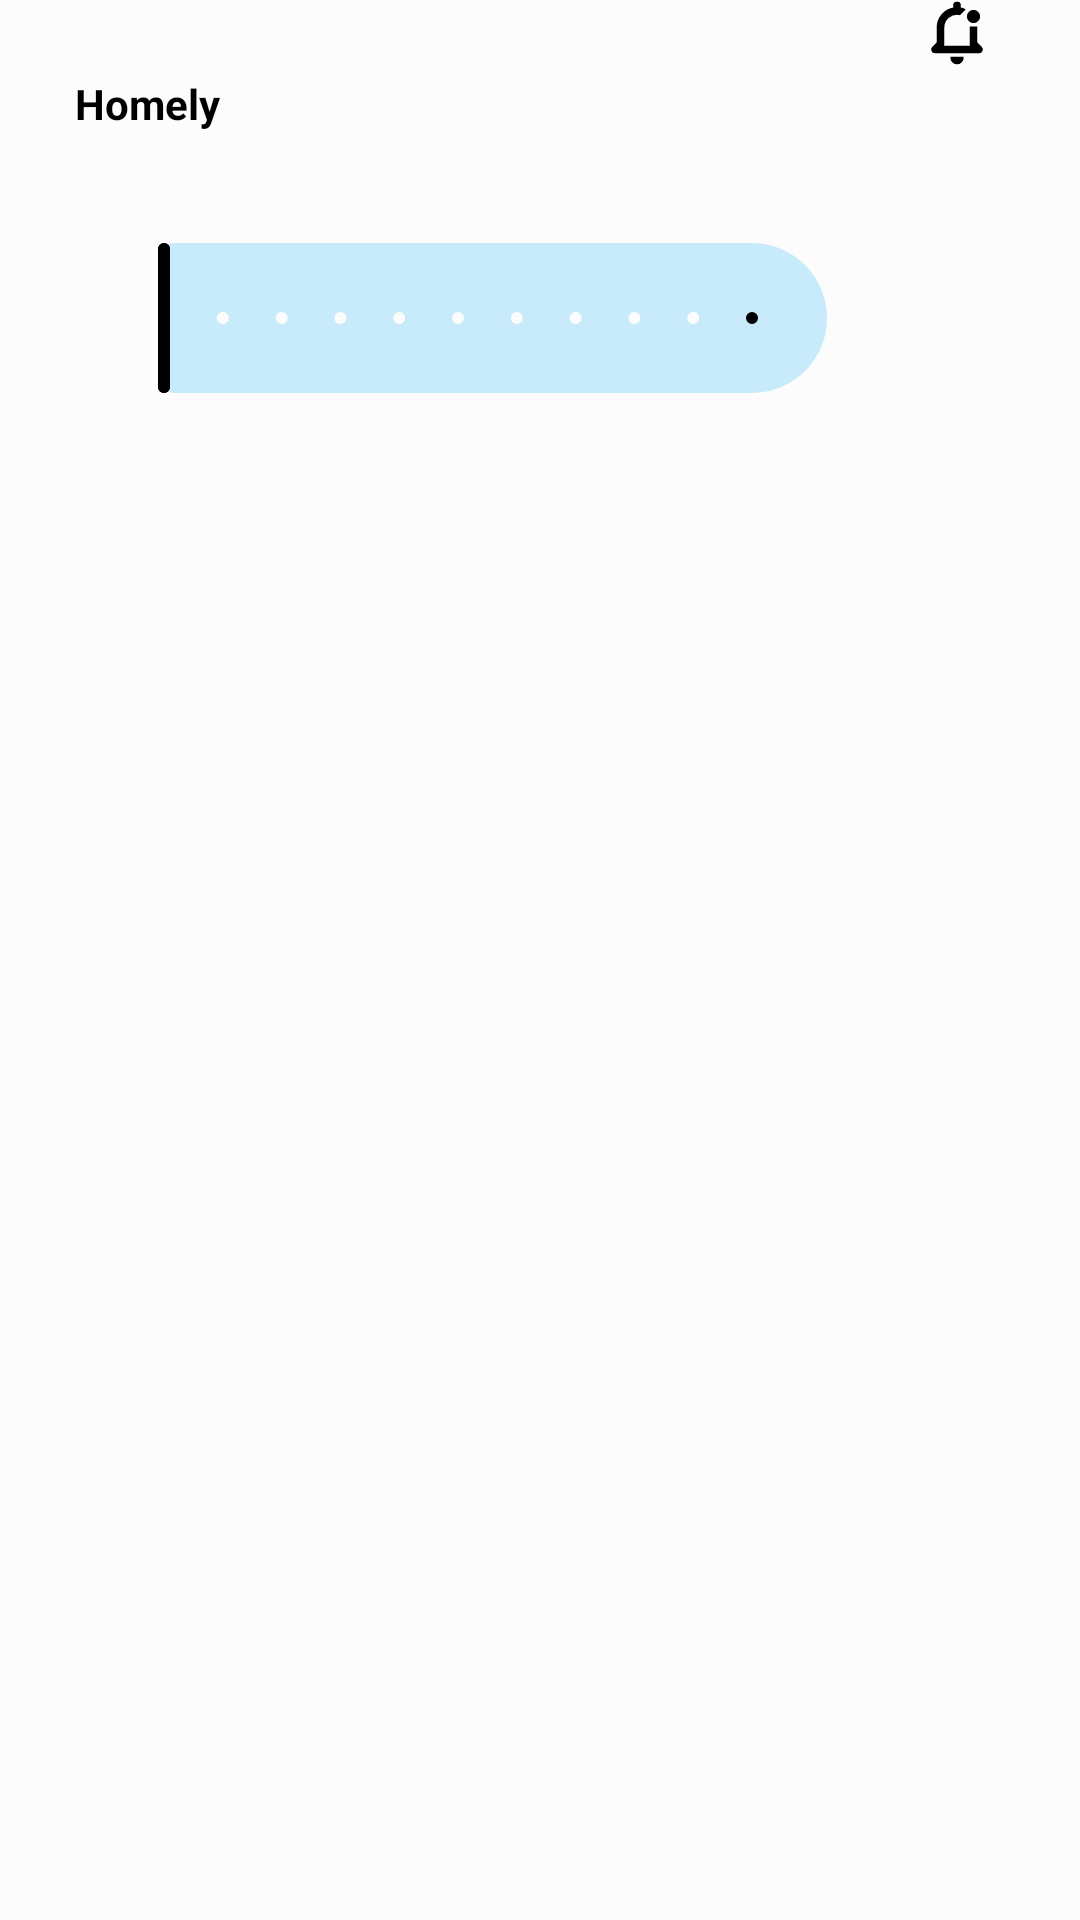

Icon click points for this 1080 x 1920 phone screenshot, format (x=x, y=y):
notification on: (x=957, y=33)
